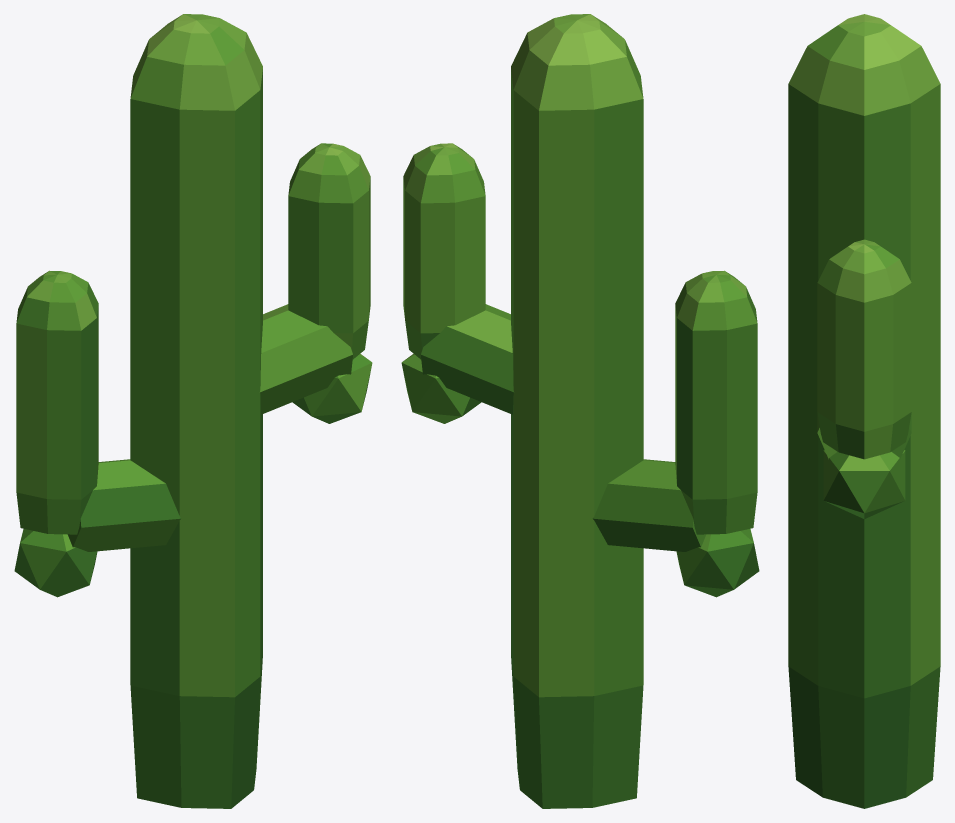
File: SM_CACTUS_TALL_01.fbx
The picture shows the model from 3 angles, left to right: view 1: azimuth 30°, elevation 25°; view 2: azimuth 150°, elevation 25°; view 3: azimuth 270°, elevation 25°; orthographic projection.
Visible parts, largest first — view 1: CACTUS_TALL_01; view 2: CACTUS_TALL_01; view 3: CACTUS_TALL_01.
Boxes of the visible parts, x1,y1,x2,y2 form: CACTUS_TALL_01: (14,14,372,808); CACTUS_TALL_01: (401,14,759,808); CACTUS_TALL_01: (788,14,940,808).
Size of the model in its own units: 1.07 by 0.4 by 2.2.
